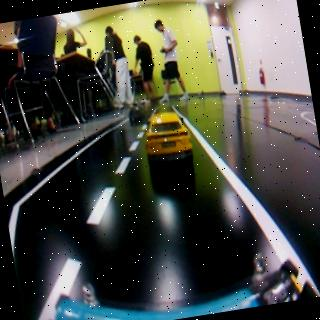car: (140, 108, 198, 178), (127, 101, 145, 124)
